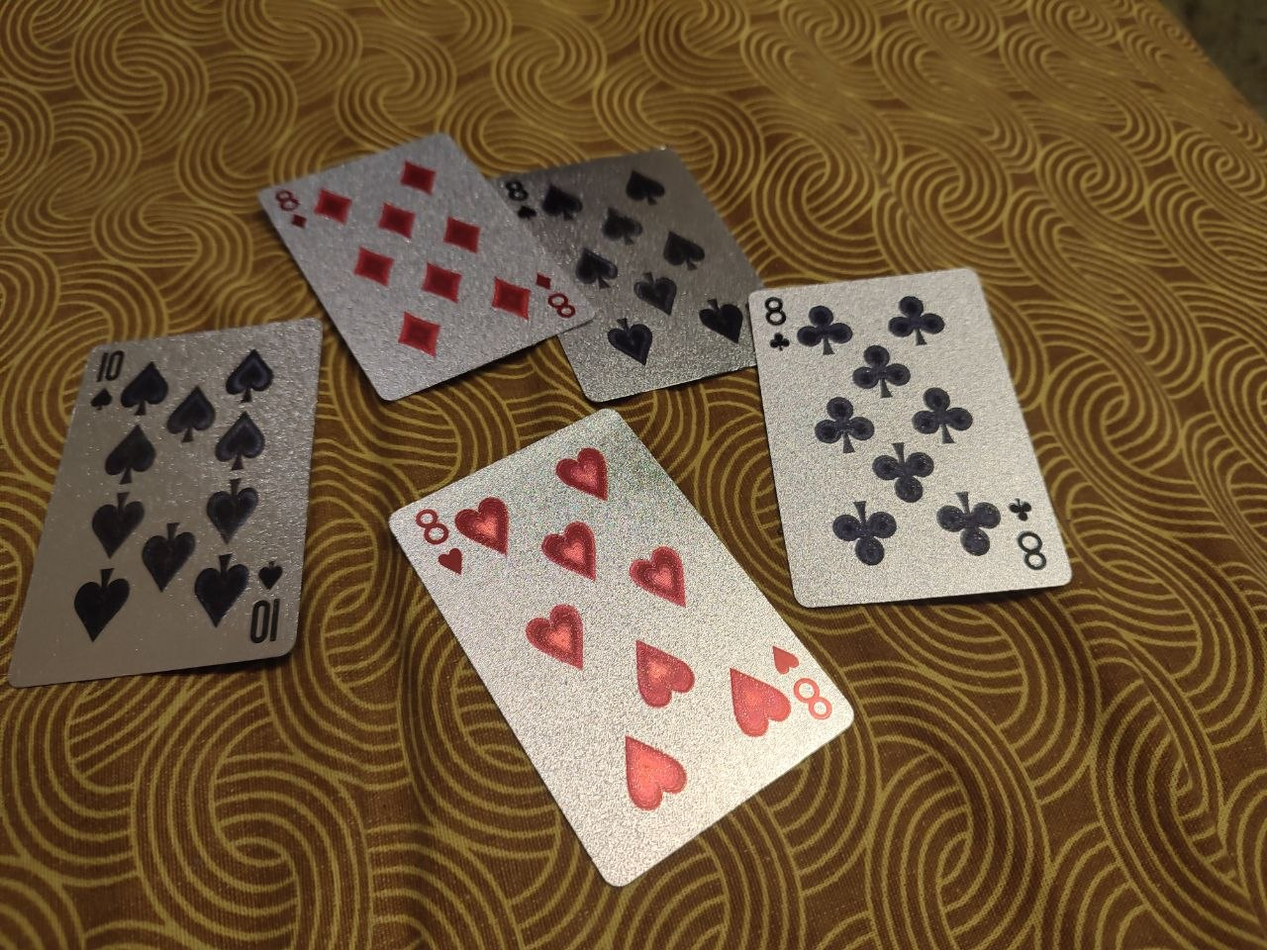10S: (7, 314, 324, 686)
8C: (745, 266, 1073, 607)
8D: (260, 131, 597, 401)
8H: (390, 408, 855, 886)
8S: (488, 146, 758, 404)
